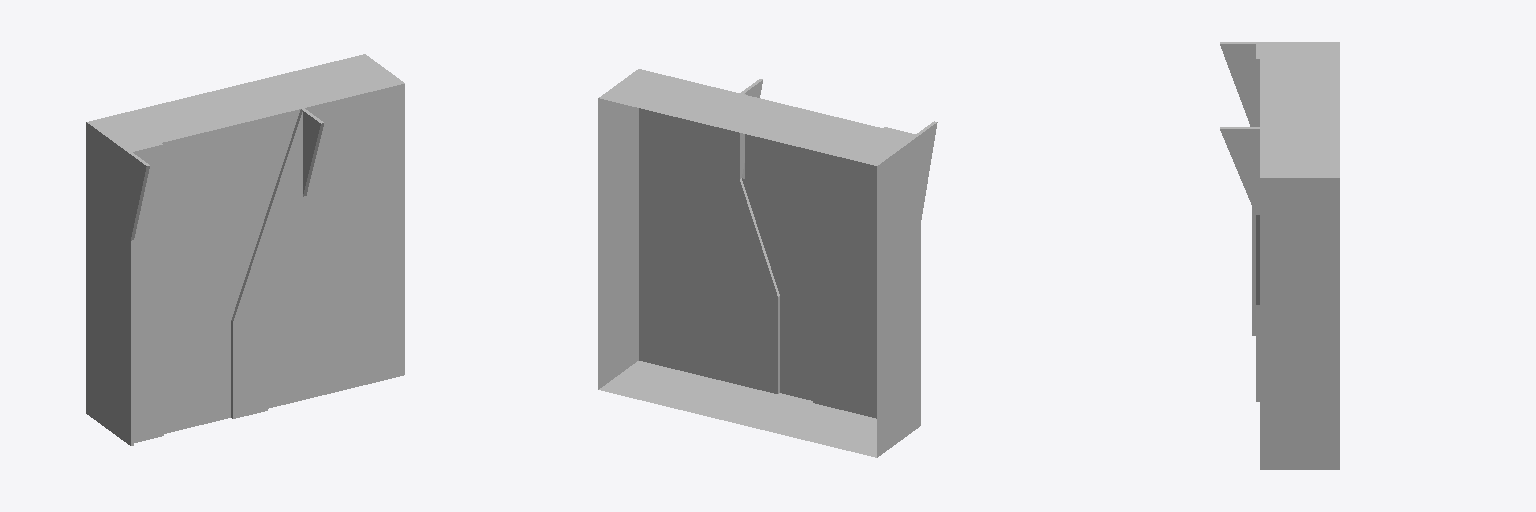
Rendered from track-pit-entrylane-small.obj.
The picture shows the model from 3 angles: view 1: azimuth 30°, elevation 25°; view 2: azimuth 150°, elevation 25°; view 3: azimuth 270°, elevation 25°; orthographic projection.
Visible parts, largest first — view 1: track-pit-entrylane-small_Cube.032; view 2: track-pit-entrylane-small_Cube.032; view 3: track-pit-entrylane-small_Cube.032.
Part boxes in pixels (x1,y1,x2,y2): track-pit-entrylane-small_Cube.032: (86, 54, 404, 445); track-pit-entrylane-small_Cube.032: (598, 69, 937, 457); track-pit-entrylane-small_Cube.032: (1220, 42, 1339, 469).
Bounding box in the file's own units: 8 × 8 × 3.